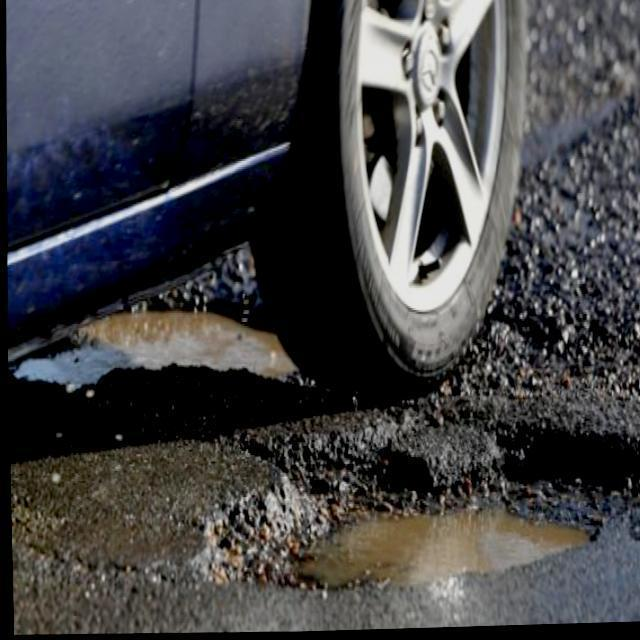Pothole: (184, 388, 640, 610)
